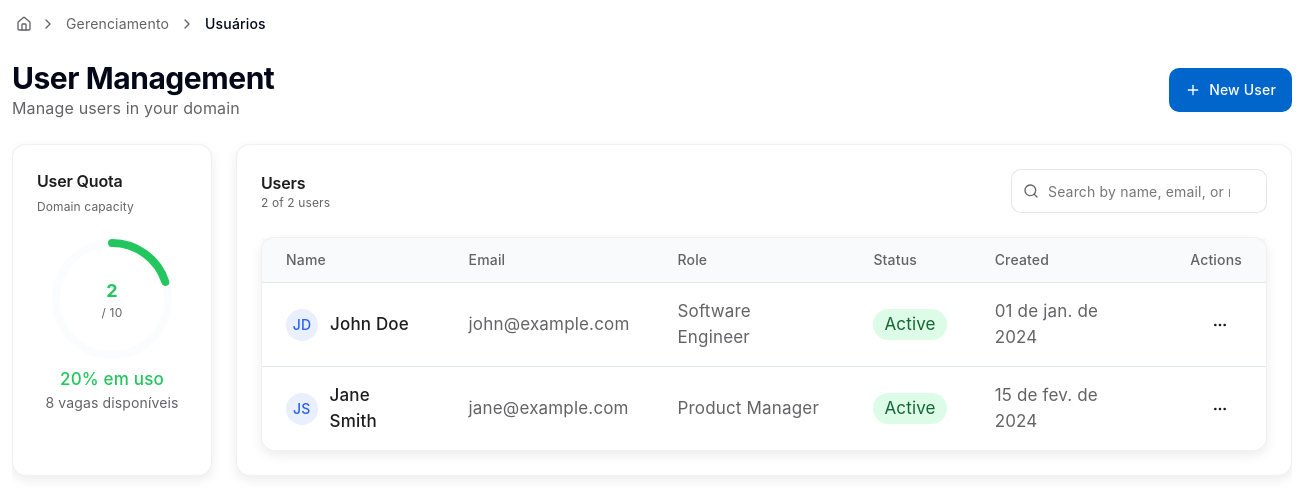
UserManagement › Search functionality › should clear search when X button clicked
Step 1. Type "John" into the field with placeholder "Search by name, email, or role..." → (1139, 191), box 1011,169 -> 1267,213
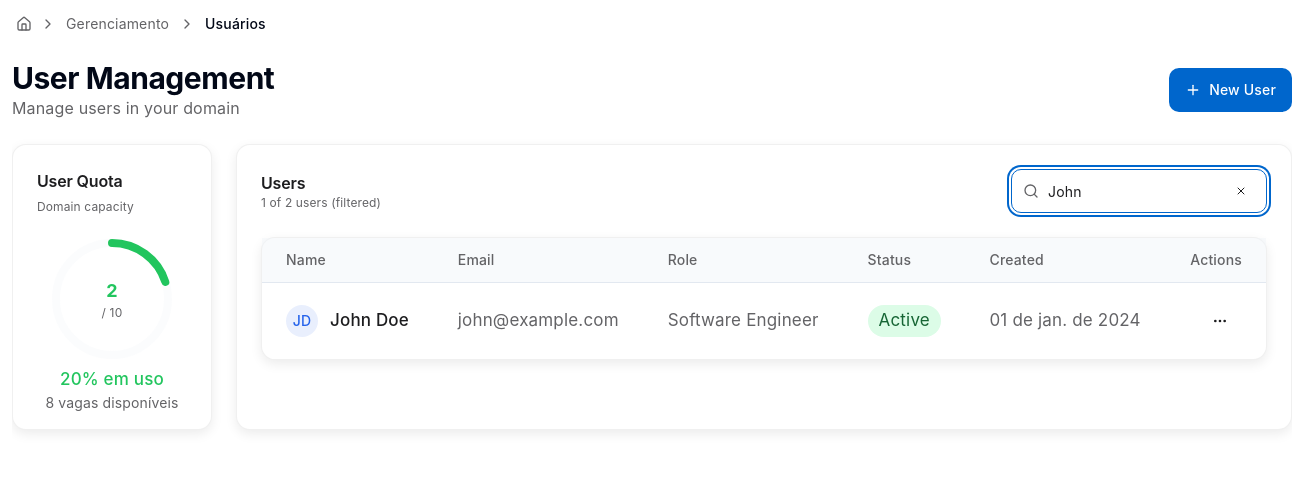
Step 2. Click the button named "Clear search" → (1241, 191), box 1219,169 -> 1263,213
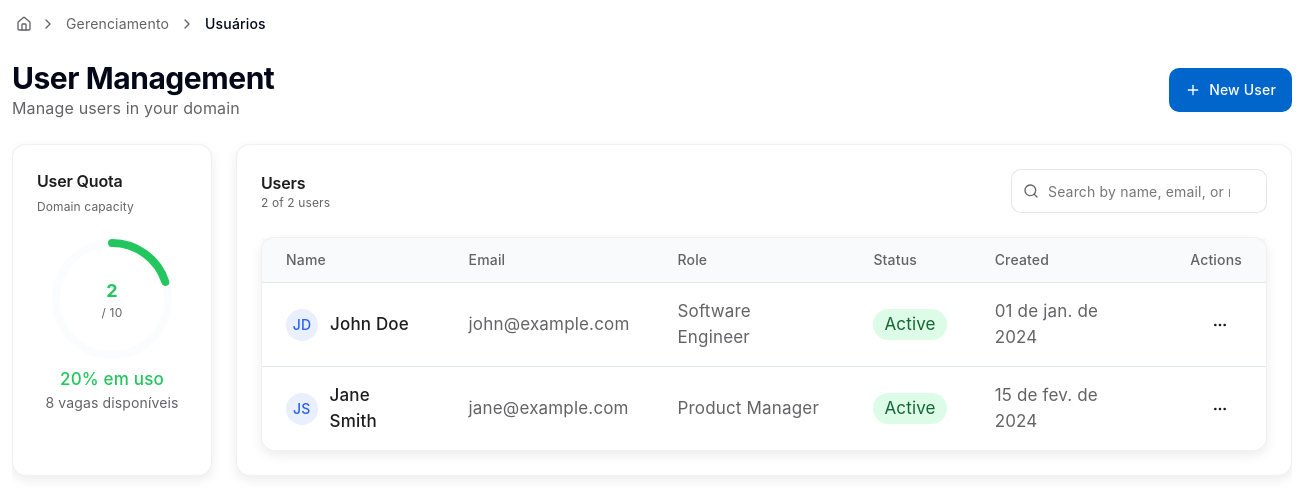
Check: the text "John Doe" is shown, box 330,312 -> 409,337
Check: the field with placeholder "Search by name, email, or role..." is empty, box 1011,169 -> 1267,213
Check: the text "Jane Smith" is shown, box 330,385 -> 377,430
